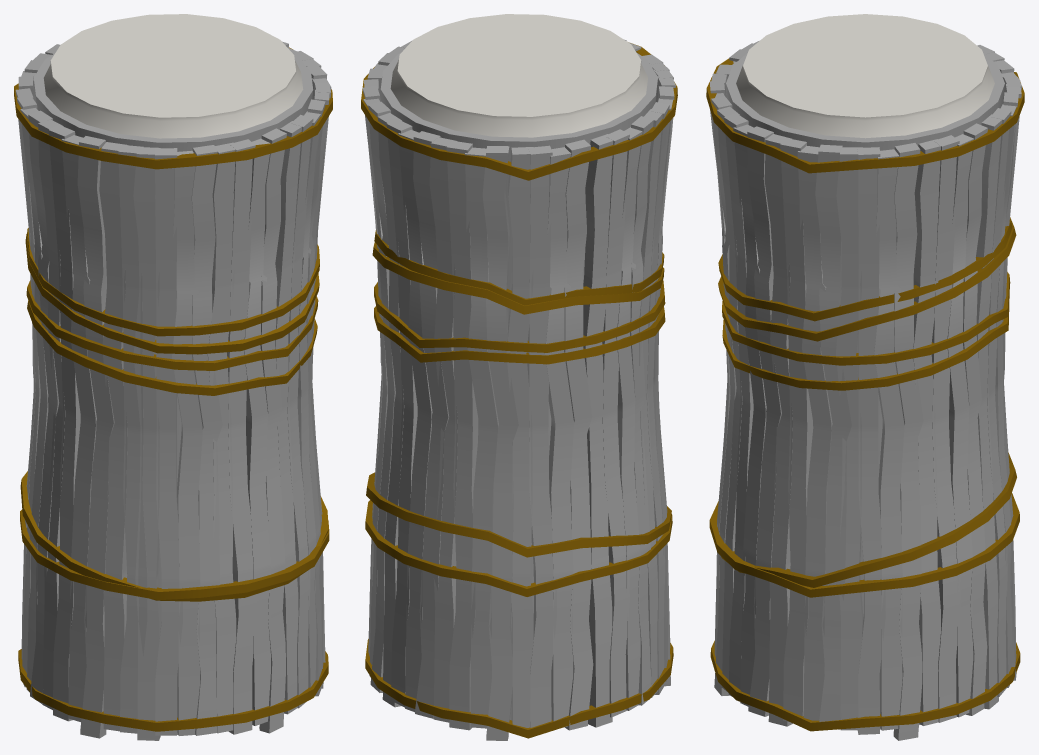
Rendered from Tambores fbx proyecto Tambor 3.fbx.
3 renders of one model, left to right at view 1: azimuth 30°, elevation 25°; view 2: azimuth 150°, elevation 25°; view 3: azimuth 270°, elevation 25°, orthographic.
Visible parts, largest first — view 1: simpleSetPercussion1:pCylinder74, simpleSetPercussion1:pCylinder22, simpleSetPercussion1:pCylinder23, simpleSetPercussion1:pCylinder56, simpleSetPercussion1:pCylinder24, simpleSetPercussion1:pCylinder18, simpleSetPercussion1:pCylinder21, simpleSetPercussion1:pCylinder49, simpleSetPercussion1:pCylinder50, simpleSetPercussion1:pCylinder17, simpleSetPercussion1:pCylinder19, simpleSetPercussion1:pCylinder20 (+22 smaller); view 2: simpleSetPercussion1:pCylinder74, simpleSetPercussion1:pCylinder44, simpleSetPercussion1:pCylinder38, simpleSetPercussion1:pCylinder57, simpleSetPercussion1:pCylinder42, simpleSetPercussion1:pCylinder37, simpleSetPercussion1:pCylinder39, simpleSetPercussion1:pCylinder40, simpleSetPercussion1:pCylinder43, simpleSetPercussion1:pCylinder41, simpleSetPercussion1:pCylinder58, simpleSetPercussion1:pCylinder48 (+22 smaller); view 3: simpleSetPercussion1:pCylinder74, simpleSetPercussion1:pCylinder30, simpleSetPercussion1:pCylinder32, simpleSetPercussion1:pCylinder31, simpleSetPercussion1:pCylinder36, simpleSetPercussion1:pCylinder34, simpleSetPercussion1:pCylinder25, simpleSetPercussion1:pCylinder35, simpleSetPercussion1:pCylinder29, simpleSetPercussion1:pCylinder26, simpleSetPercussion1:pCylinder33, simpleSetPercussion1:pCylinder16 (+21 smaller).
Boxes of the visible parts, bbox=[...] form: simpleSetPercussion1:pCylinder74: bbox=[43, 14, 303, 138]; simpleSetPercussion1:pCylinder22: bbox=[155, 148, 182, 735]; simpleSetPercussion1:pCylinder23: bbox=[172, 150, 202, 735]; simpleSetPercussion1:pCylinder56: bbox=[77, 136, 114, 738]; simpleSetPercussion1:pCylinder24: bbox=[191, 145, 222, 735]; simpleSetPercussion1:pCylinder18: bbox=[227, 139, 257, 734]; simpleSetPercussion1:pCylinder21: bbox=[133, 147, 161, 740]; simpleSetPercussion1:pCylinder49: bbox=[99, 142, 127, 731]; simpleSetPercussion1:pCylinder50: bbox=[118, 145, 147, 733]; simpleSetPercussion1:pCylinder17: bbox=[207, 142, 236, 733]; simpleSetPercussion1:pCylinder19: bbox=[244, 138, 270, 725]; simpleSetPercussion1:pCylinder20: bbox=[259, 128, 286, 733]; simpleSetPercussion1:pCylinder74: bbox=[390, 14, 647, 137]; simpleSetPercussion1:pCylinder44: bbox=[482, 146, 518, 740]; simpleSetPercussion1:pCylinder38: bbox=[527, 145, 556, 727]; simpleSetPercussion1:pCylinder57: bbox=[583, 134, 613, 727]; simpleSetPercussion1:pCylinder42: bbox=[446, 140, 478, 730]; simpleSetPercussion1:pCylinder37: bbox=[506, 147, 533, 727]; simpleSetPercussion1:pCylinder39: bbox=[544, 147, 573, 727]; simpleSetPercussion1:pCylinder40: bbox=[564, 139, 593, 730]; simpleSetPercussion1:pCylinder43: bbox=[464, 147, 498, 728]; simpleSetPercussion1:pCylinder41: bbox=[429, 137, 457, 722]; simpleSetPercussion1:pCylinder58: bbox=[602, 129, 629, 717]; simpleSetPercussion1:pCylinder48: bbox=[413, 131, 449, 718]; simpleSetPercussion1:pCylinder74: bbox=[736, 14, 994, 138]; simpleSetPercussion1:pCylinder30: bbox=[857, 147, 885, 734]; simpleSetPercussion1:pCylinder32: bbox=[893, 143, 923, 740]; simpleSetPercussion1:pCylinder31: bbox=[874, 149, 904, 730]; simpleSetPercussion1:pCylinder36: bbox=[815, 144, 851, 729]; simpleSetPercussion1:pCylinder34: bbox=[780, 138, 813, 721]; simpleSetPercussion1:pCylinder25: bbox=[913, 139, 940, 725]; simpleSetPercussion1:pCylinder35: bbox=[797, 145, 832, 720]; simpleSetPercussion1:pCylinder29: bbox=[836, 147, 862, 730]; simpleSetPercussion1:pCylinder26: bbox=[931, 135, 960, 722]; simpleSetPercussion1:pCylinder33: bbox=[764, 134, 792, 726]; simpleSetPercussion1:pCylinder16: bbox=[747, 126, 781, 716].
Bounding box in the file's own units: 3.17 × 6.76 × 3.18.
